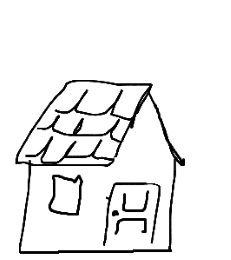bottom_placed_house: (1, 1, 231, 260)
door: (102, 173, 166, 257)
open_window: (42, 172, 96, 216)
roof: (14, 59, 196, 173)
wall: (11, 151, 202, 260)
